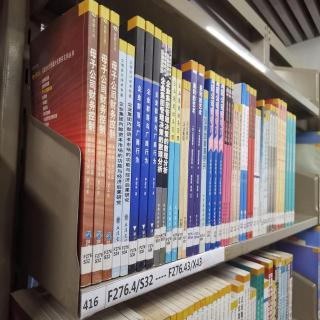book-spine: (89, 4, 111, 282), (100, 9, 121, 283), (80, 0, 99, 288), (128, 15, 146, 273), (144, 26, 163, 270), (137, 19, 154, 273), (111, 38, 126, 280), (120, 42, 135, 277), (154, 31, 168, 268), (159, 35, 173, 265), (170, 69, 183, 263), (186, 59, 198, 258), (166, 67, 177, 264), (194, 64, 204, 256), (178, 80, 188, 260), (182, 81, 192, 259), (216, 76, 226, 247), (206, 70, 215, 251), (211, 74, 220, 250), (221, 78, 230, 247), (200, 89, 208, 253), (228, 103, 237, 245), (224, 81, 231, 246), (227, 82, 234, 246), (232, 103, 239, 243), (235, 105, 242, 243)
